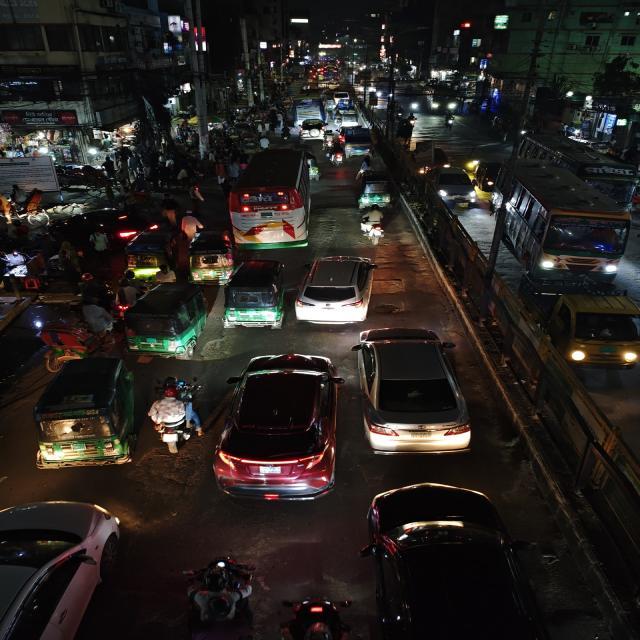bus: (512, 172, 634, 296), (235, 150, 314, 252), (293, 96, 325, 122), (428, 88, 458, 111)
car: (359, 491, 545, 640), (222, 341, 346, 502), (2, 495, 117, 635), (355, 322, 475, 452), (303, 242, 374, 331), (431, 164, 472, 204), (298, 120, 324, 140)
cng: (37, 370, 137, 464), (124, 285, 210, 353), (222, 258, 290, 332), (118, 232, 178, 274), (184, 232, 235, 278), (358, 172, 395, 208)
motorcycle: (177, 544, 269, 624), (143, 373, 212, 463), (356, 208, 393, 245), (326, 142, 341, 170), (461, 147, 478, 168), (441, 110, 455, 130), (278, 125, 292, 144), (396, 106, 406, 122), (260, 135, 270, 148), (409, 114, 419, 125)
pedestrian: (85, 228, 110, 266), (158, 191, 183, 228), (189, 184, 206, 213), (179, 211, 198, 236), (214, 161, 227, 188)
pickup_van: (519, 275, 640, 386), (343, 128, 373, 156)
rickshaw: (35, 310, 118, 360)
